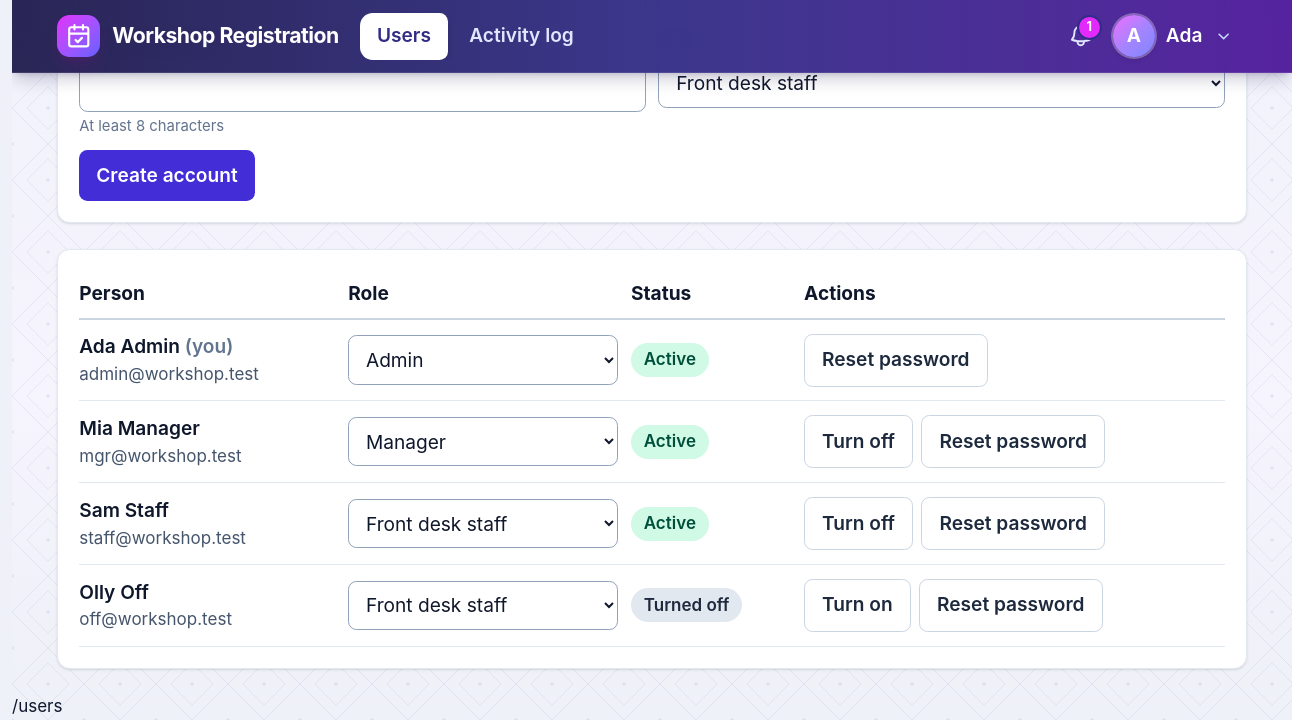
Users page › turns an account off and back on
(page scrolled)
Check: the text "Sam Staff" is shown, box [79, 498, 169, 522]
Click the button "Turn off" in the row of "Sam Staff": point(859, 524) [804, 497, 913, 550]
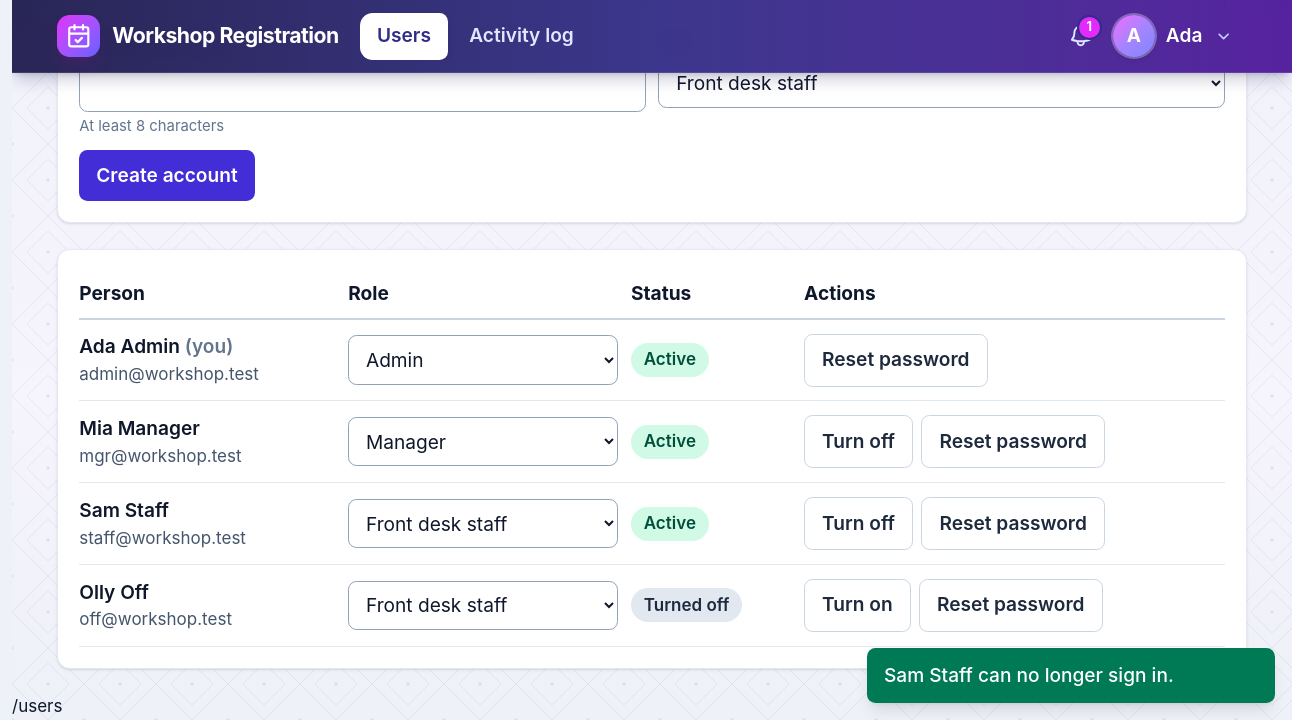
Check: the text "Sam Staff can no longer sign in." is shown, box [867, 648, 1275, 703]
Click the button "Turn on": point(857, 605) [804, 579, 911, 632]
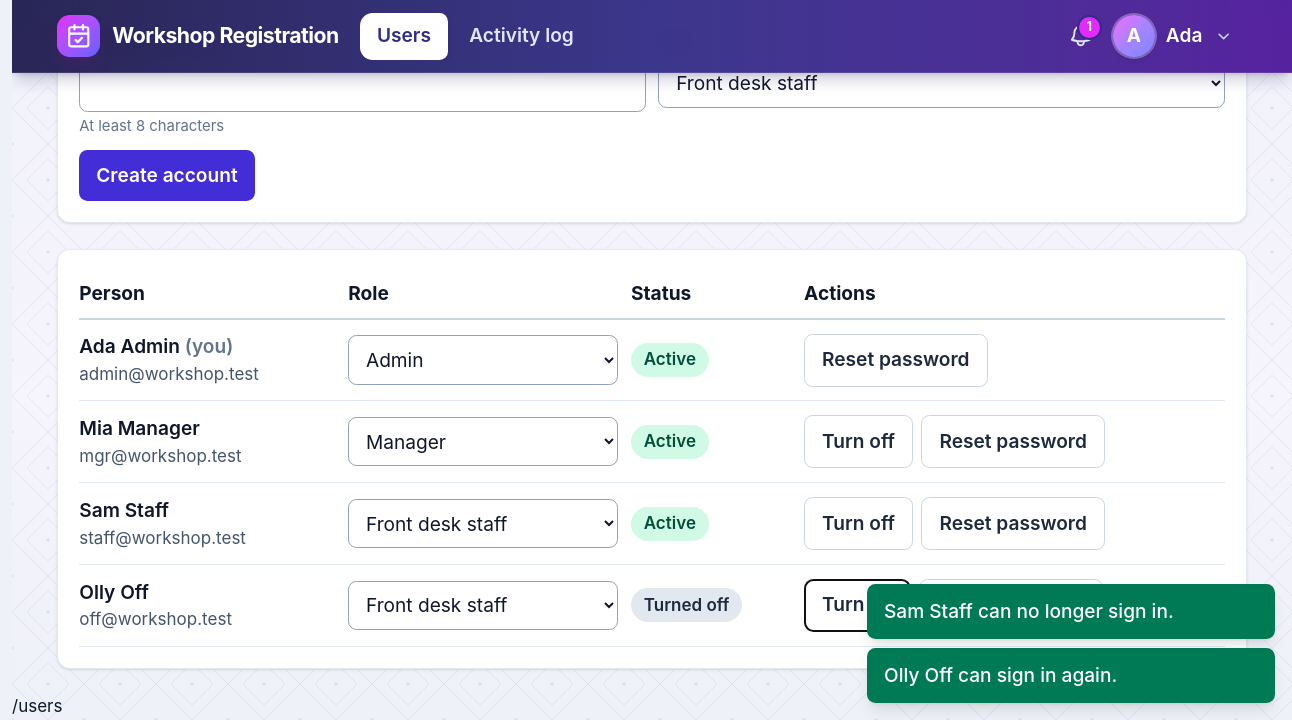
Check: the text "Olly Off can sign in again." is shown, box [867, 648, 1275, 703]
